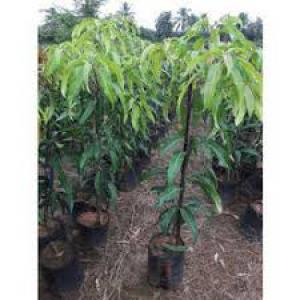Tree: (58, 11, 254, 284)
